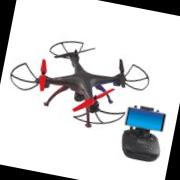drone: (4, 31, 158, 136)
